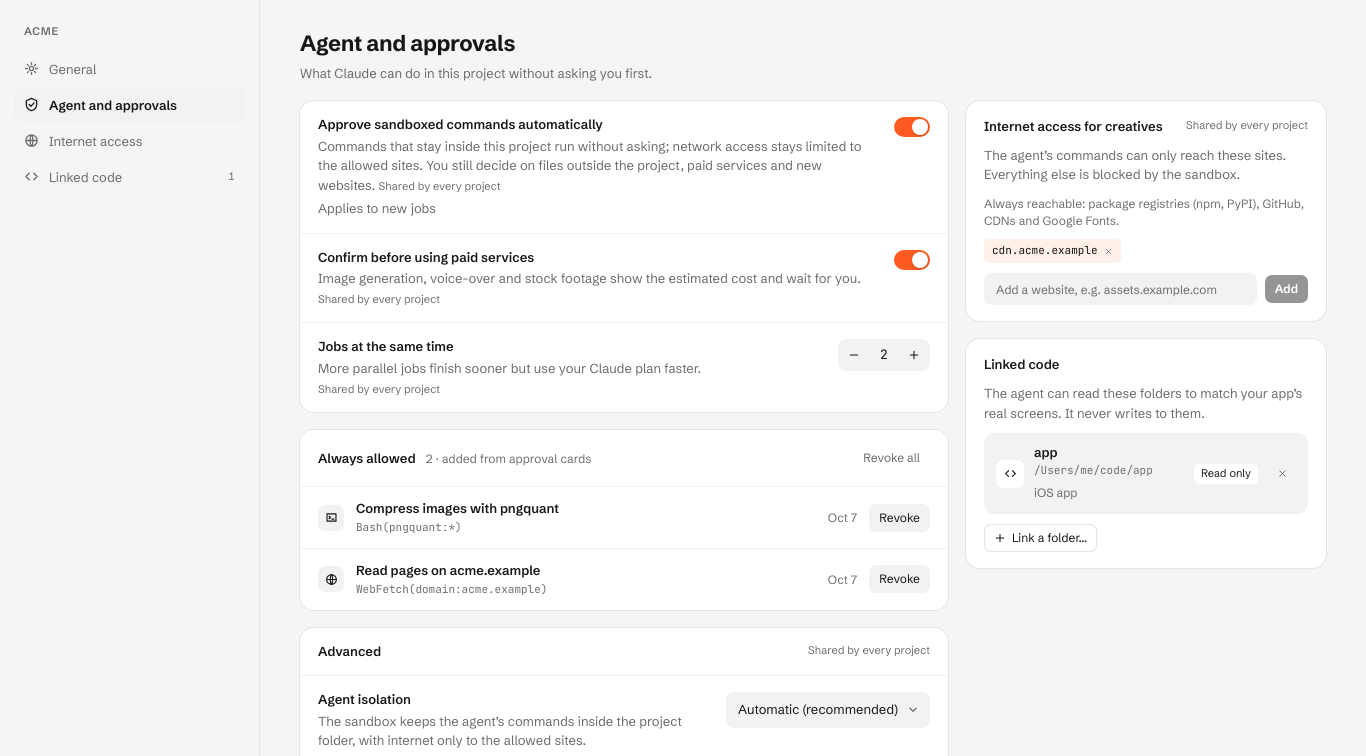
Test: Project settings · always allowed › revoke asks first; Cancel keeps the rule and sends nothing
This screenshot has width=1366, height=756.
Check: the text "Compress images with pngquant" is shown, box [356,500,559,516]
Click the button with aria-label "Revoke Compress images with pngquant" at (900, 518), box [869,504,930,532]
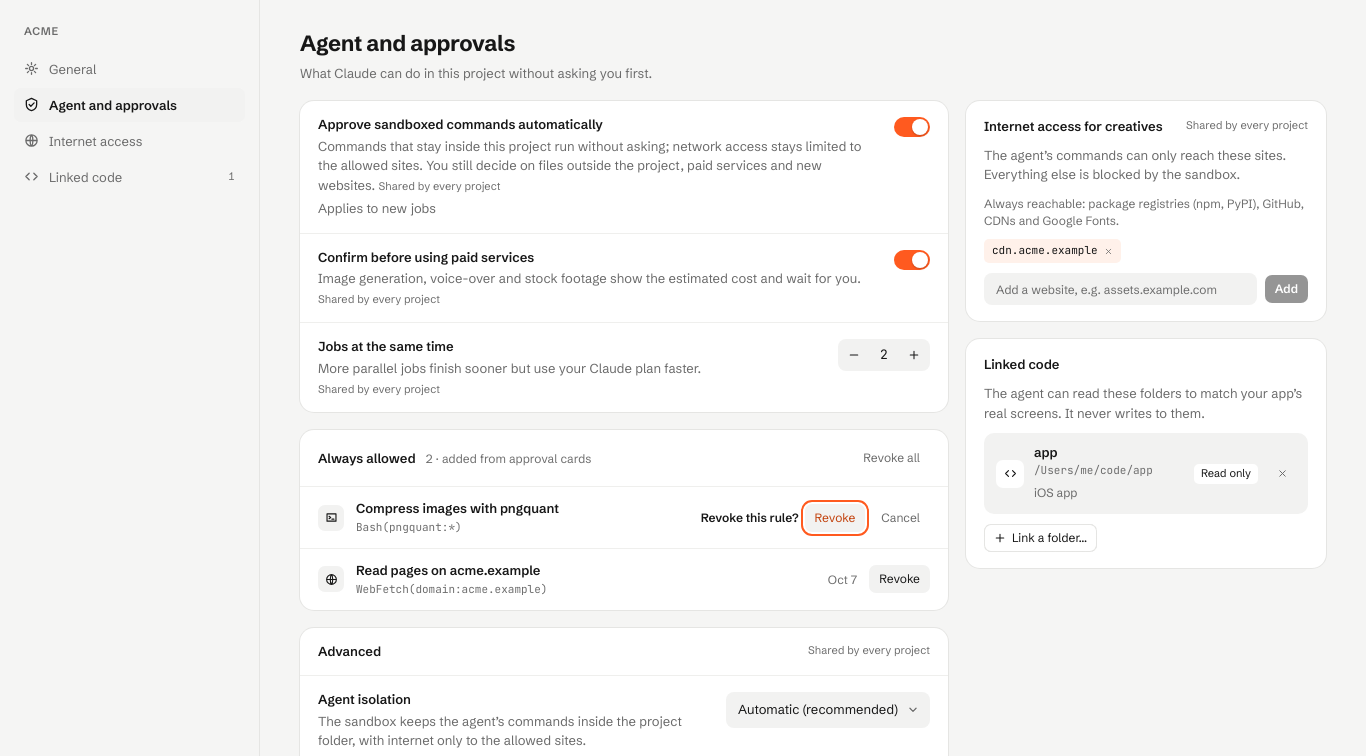
Check: the text "Revoke this rule?" is shown, box [701,509,798,526]
Click the button "Cancel" at (901, 518), box [871,504,930,532]
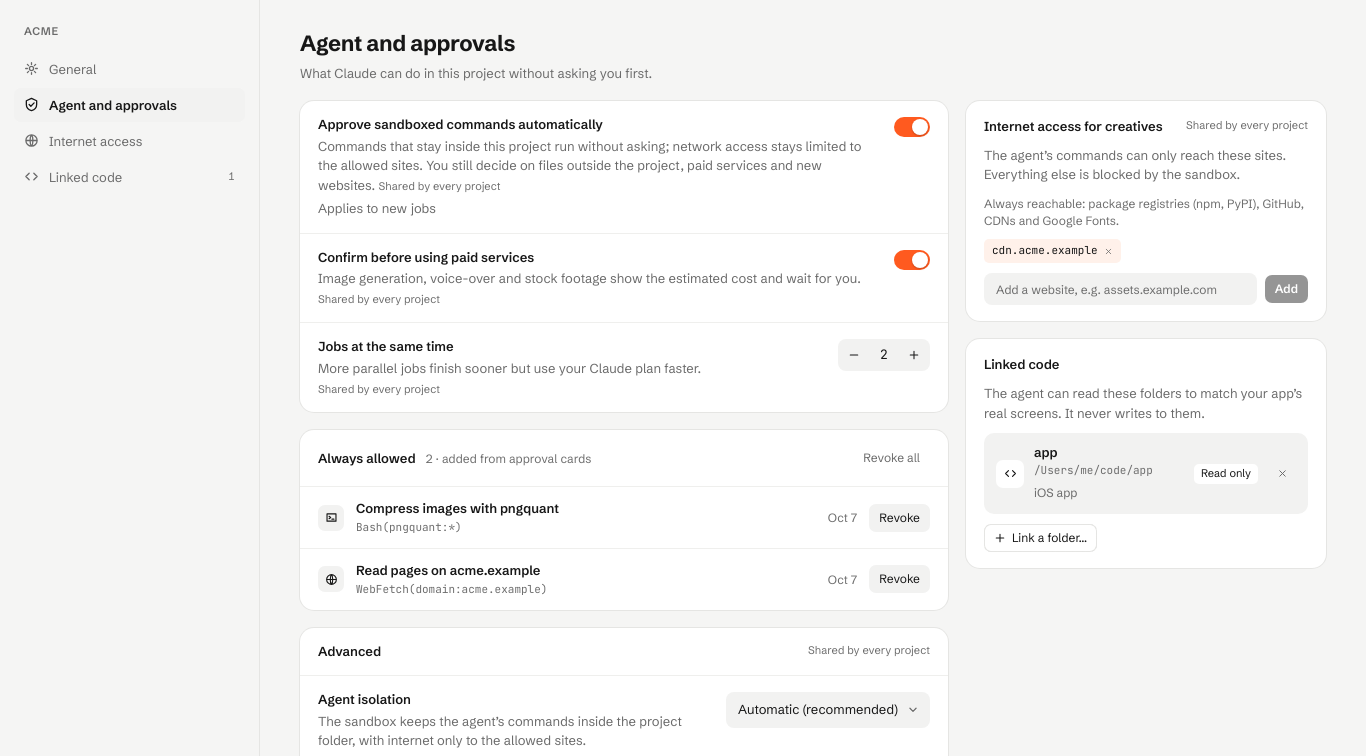
Check: the text "Compress images with pngquant" is shown, box [356,500,559,516]
Check: the text "Revoke this rule?" is gone
